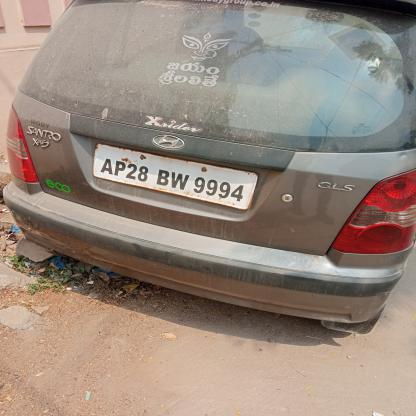Number_Plate_Detected: (97, 152, 253, 204)
